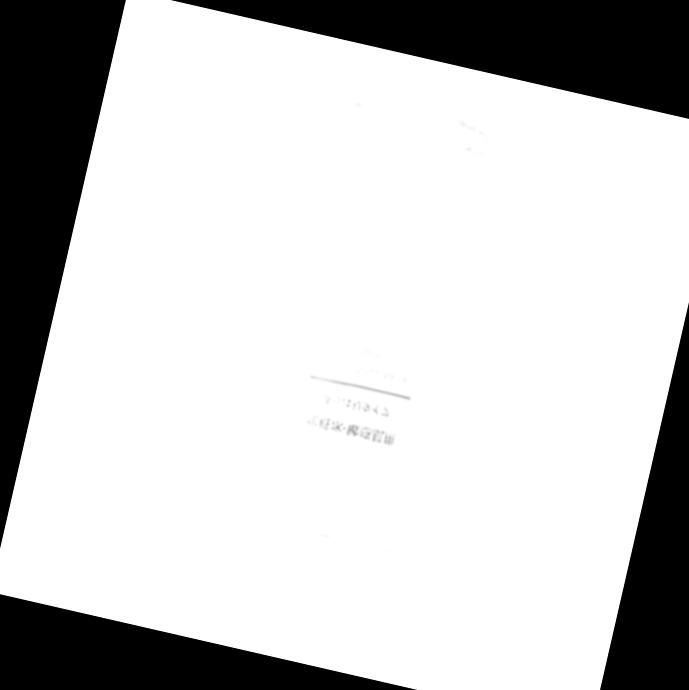cosmetic: (229, 96, 500, 626)
